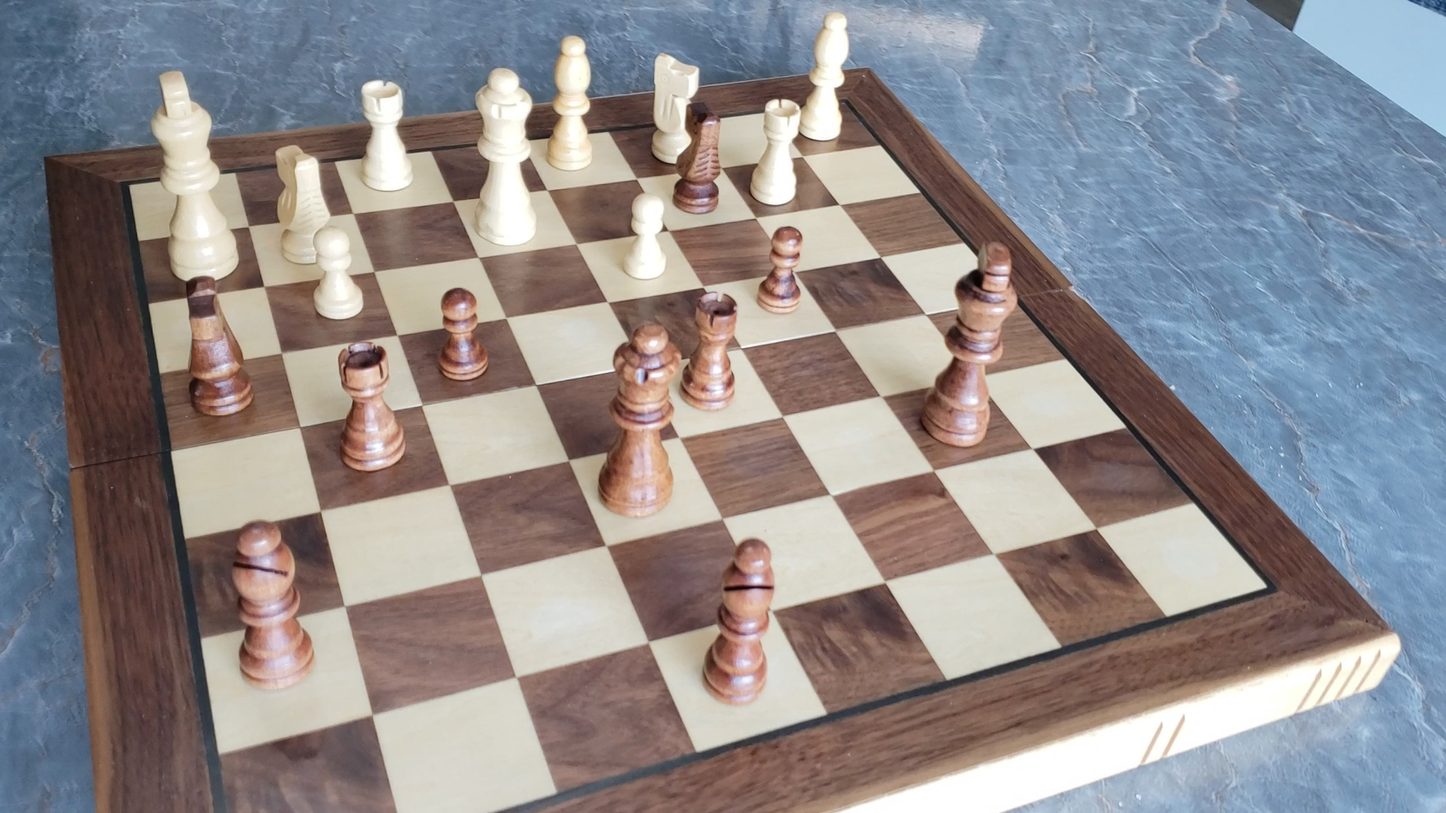black-bishop: (695, 527, 792, 716), (227, 515, 316, 690)
black-king: (919, 235, 1020, 448)
black-knight: (157, 272, 256, 412), (673, 106, 724, 216)
black-pawn: (435, 284, 489, 383), (757, 221, 807, 316)
black-queen: (596, 318, 684, 519)
black-rook: (335, 338, 406, 472), (685, 289, 742, 411)
white-bishop: (542, 26, 599, 172), (798, 6, 854, 146)
white-king: (146, 65, 242, 288)
white-knight: (269, 141, 335, 267), (646, 49, 703, 166)
white-pawn: (303, 223, 371, 325), (617, 187, 676, 285)
white-queen: (470, 63, 541, 250)
white-rook: (355, 75, 415, 195), (747, 95, 806, 210)
